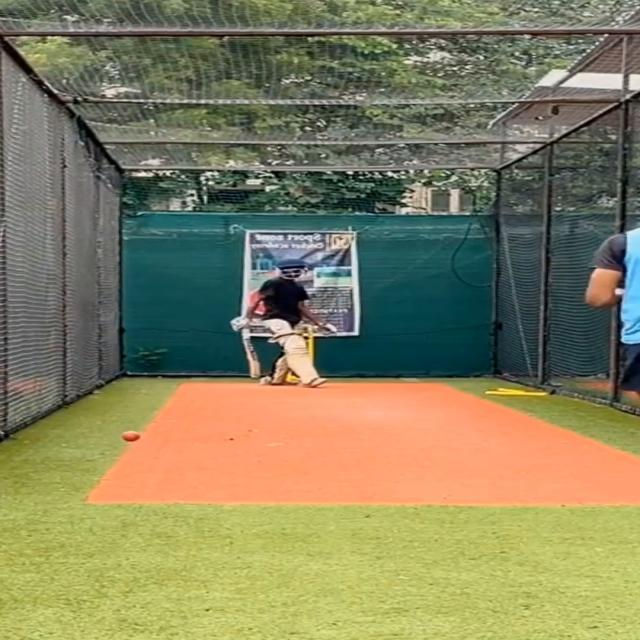ball: (120, 431, 142, 444)
